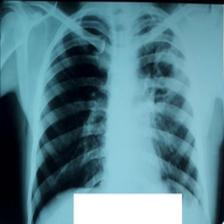tuberculosis: (27, 8, 210, 223)
